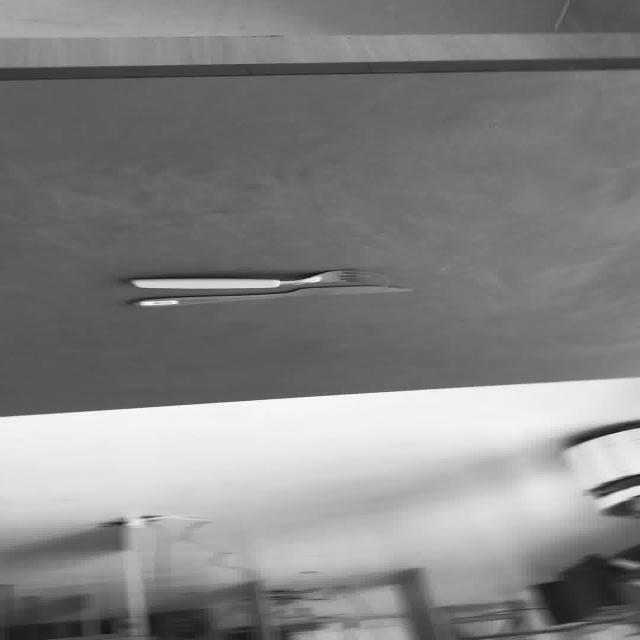fork: (128, 268, 389, 289)
knife fork: (130, 284, 412, 307)
